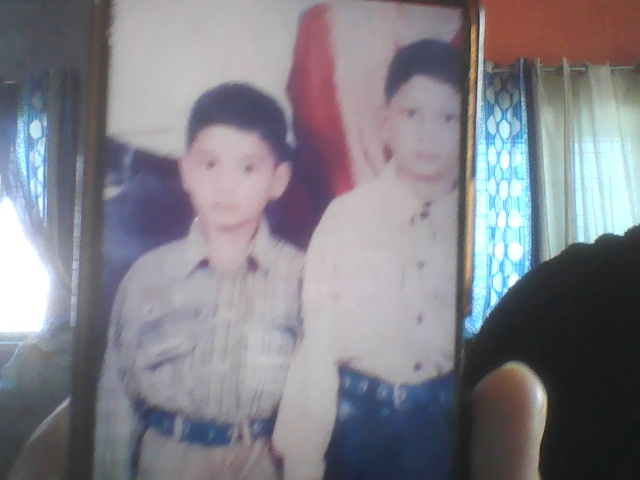fake: (190, 104, 280, 231)
